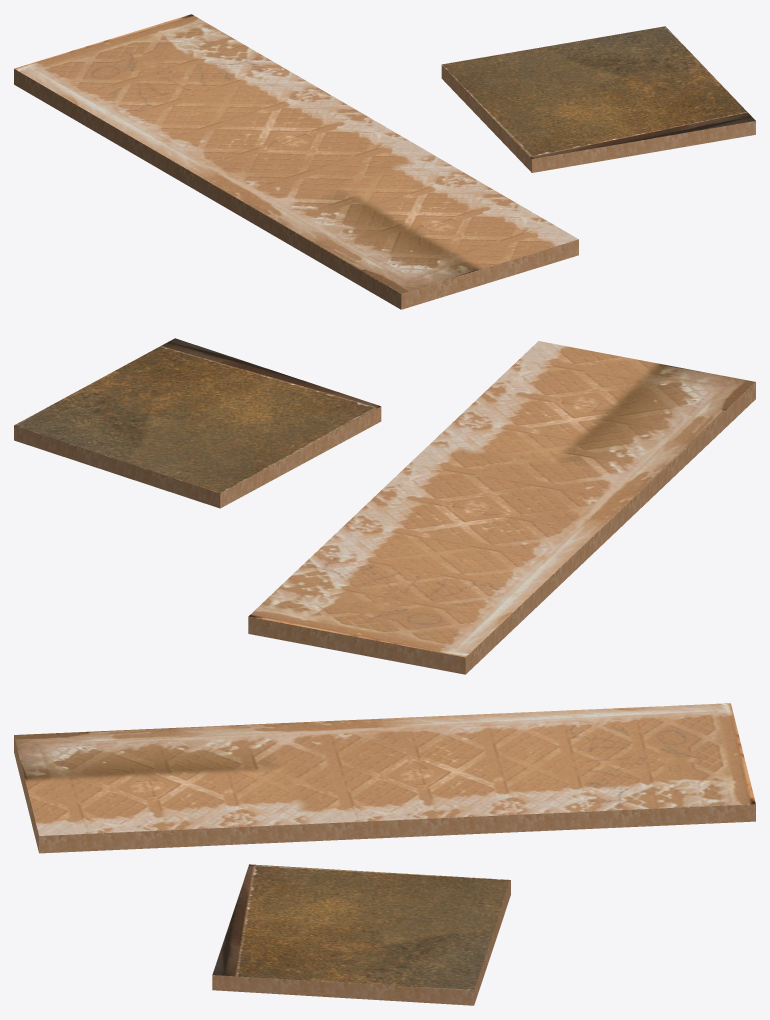
The model's file is revestimentos_23_03_web.glb.
3 renders of one model, top to bottom at view 1: azimuth 30°, elevation 25°; view 2: azimuth 150°, elevation 25°; view 3: azimuth 270°, elevation 25°, orthographic. The views are drawn at different scales.
Parts seen in each view (by area): view 1: Revestimento_Ceramico, Placa_Esmaltada; view 2: Revestimento_Ceramico, Placa_Esmaltada; view 3: Revestimento_Ceramico, Placa_Esmaltada.
Boxes of the visible parts, bbox=[...] form: Revestimento_Ceramico: bbox=[14, 14, 578, 309]; Placa_Esmaltada: bbox=[441, 26, 755, 172]; Revestimento_Ceramico: bbox=[248, 341, 755, 674]; Placa_Esmaltada: bbox=[14, 338, 381, 508]; Revestimento_Ceramico: bbox=[14, 703, 755, 853]; Placa_Esmaltada: bbox=[212, 864, 510, 1005].
Bounding box in the file's own units: 0.2809 × 0.008 × 0.3088.
3 materials, 3 textured.
